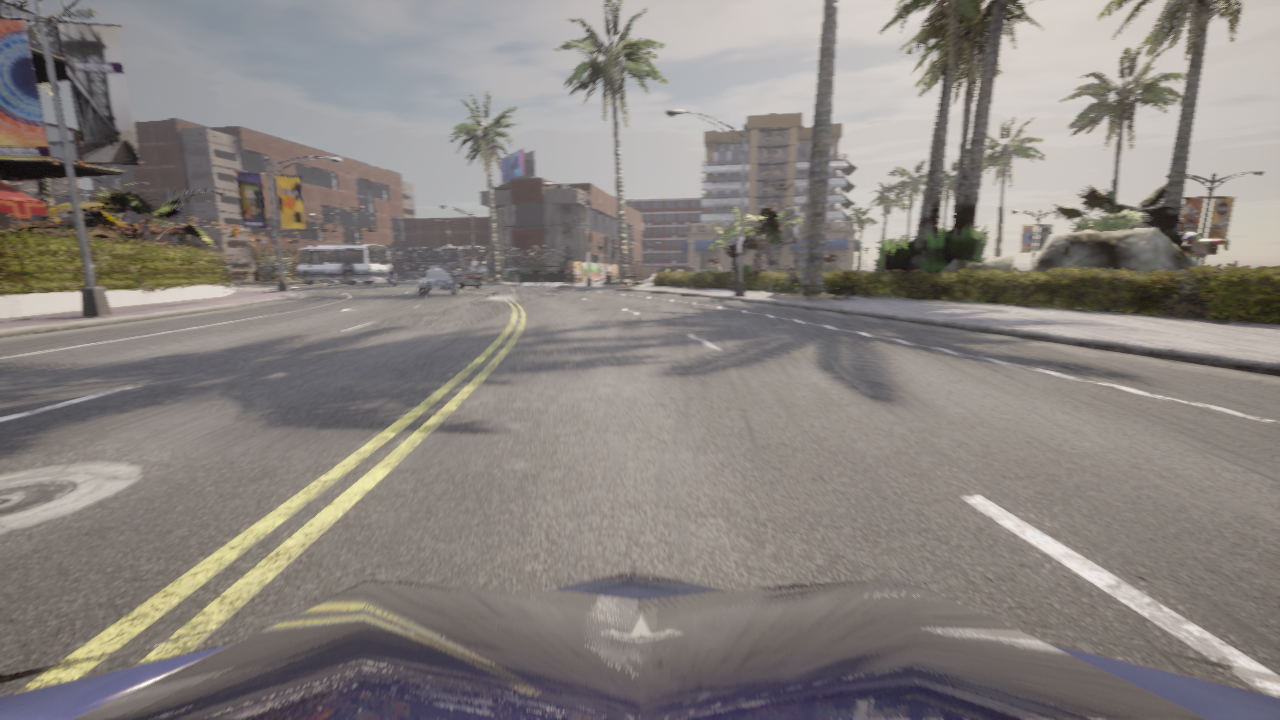cyclist: (0, 569, 1279, 719), (293, 244, 389, 284), (415, 269, 459, 295), (450, 269, 482, 289), (504, 266, 523, 274), (467, 266, 487, 272), (477, 271, 492, 277), (410, 273, 423, 279), (430, 266, 447, 269), (390, 278, 395, 284), (394, 273, 397, 279)
